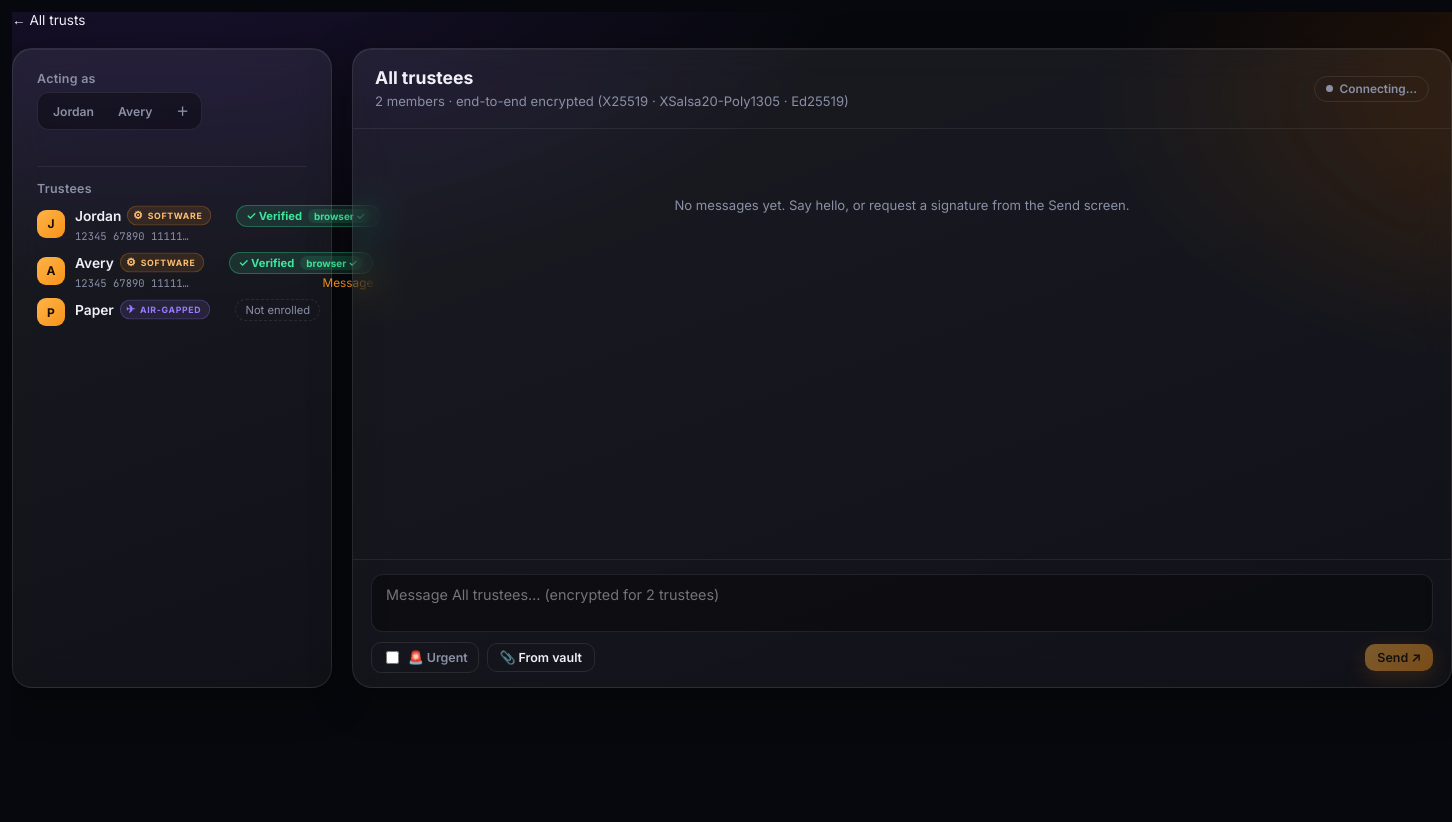
Test: Messages page › compose encrypts for every member; the server only receives ciphertext
Step 1. Type "Key ceremony is tomorrow" into the 2nd text box with test id "compose" → {"x": 902, "y": 603}, box [371,574,1433,632]
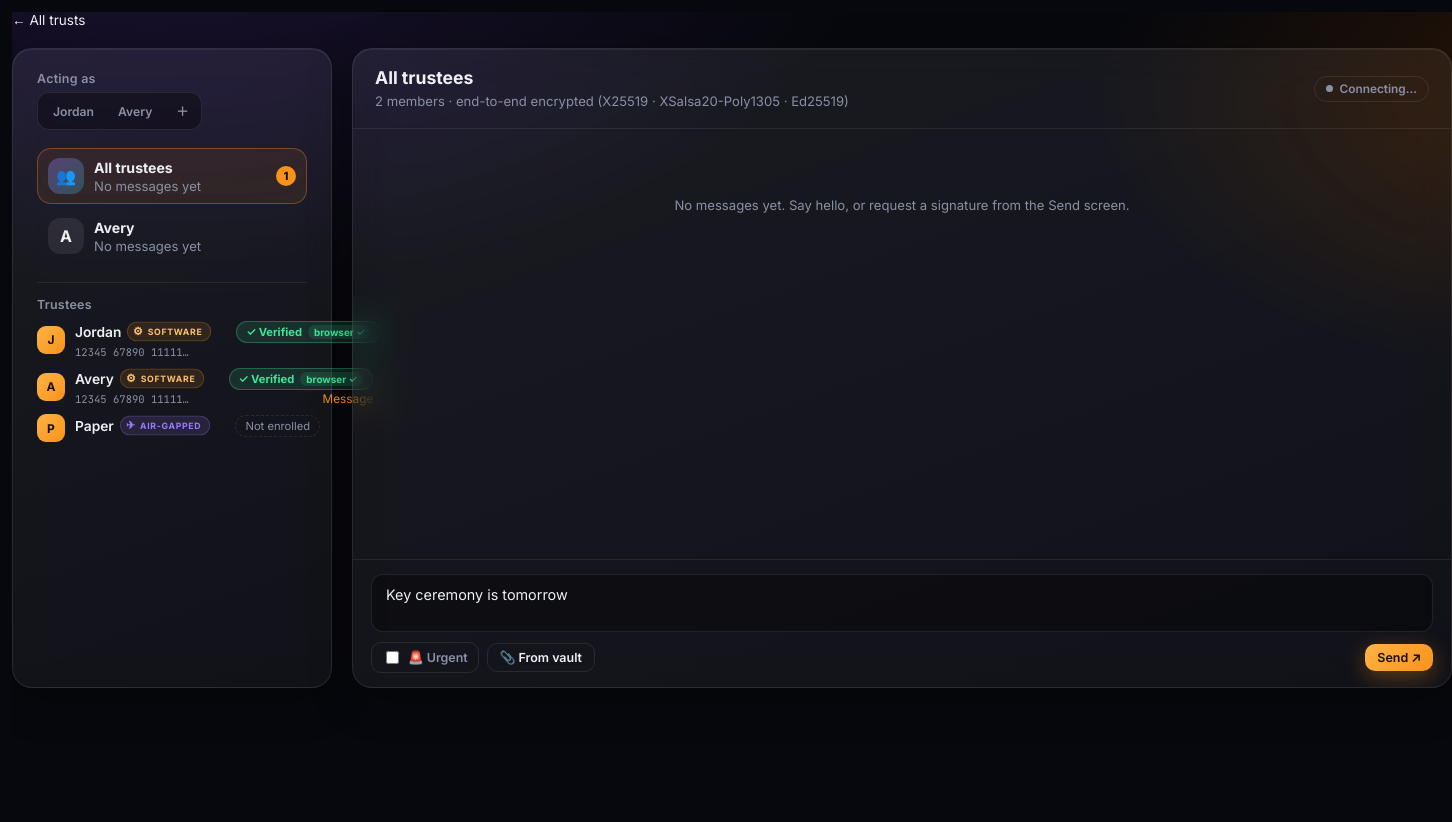
Step 2. Click the checkbox with test id "urgent-toggle" showing "🚨 Urgent" → {"x": 392, "y": 658}, box [386,651,399,664]
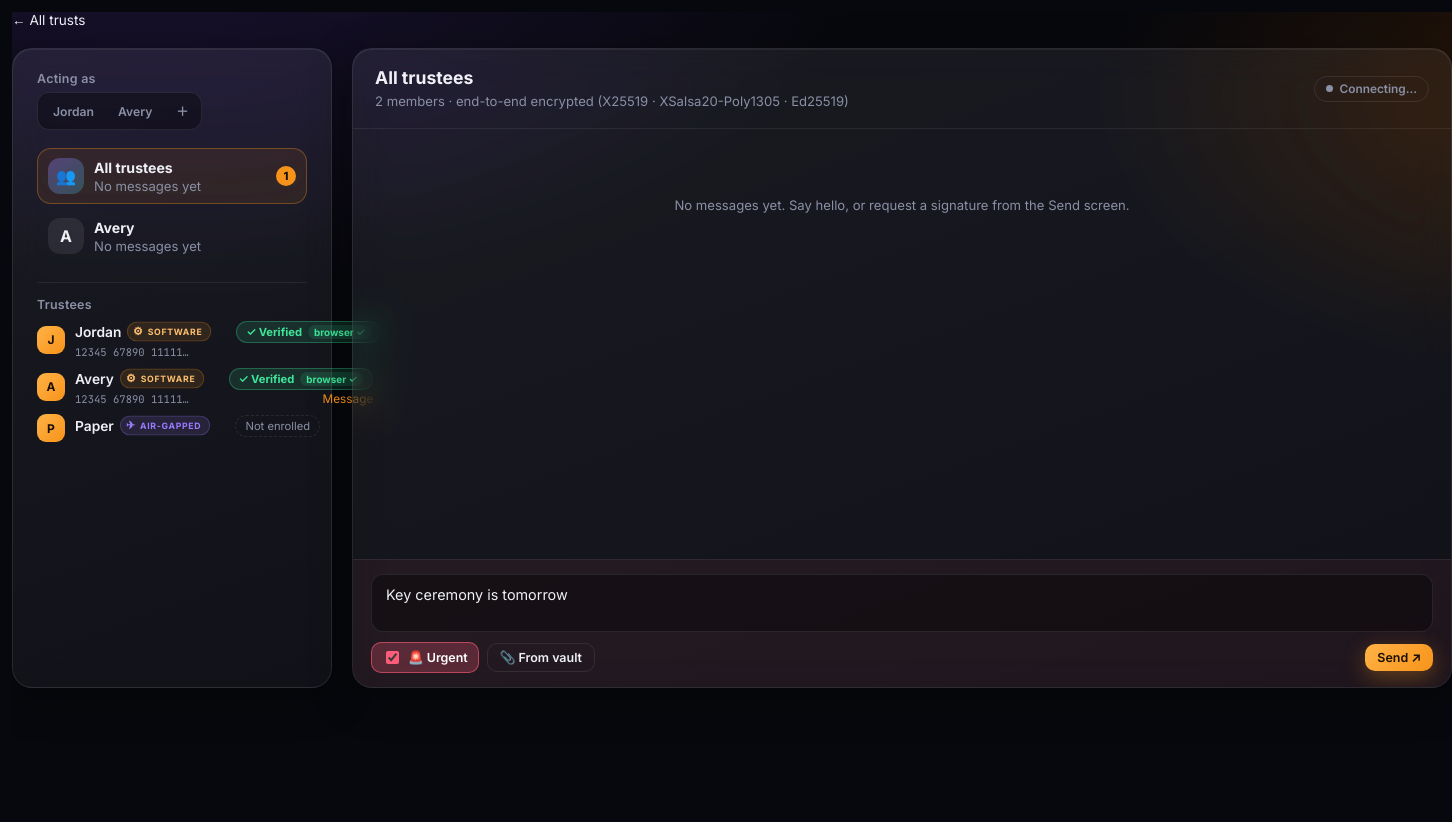
Step 3. Click the button with test id "send" → {"x": 1399, "y": 658}, box [1365,644,1433,671]
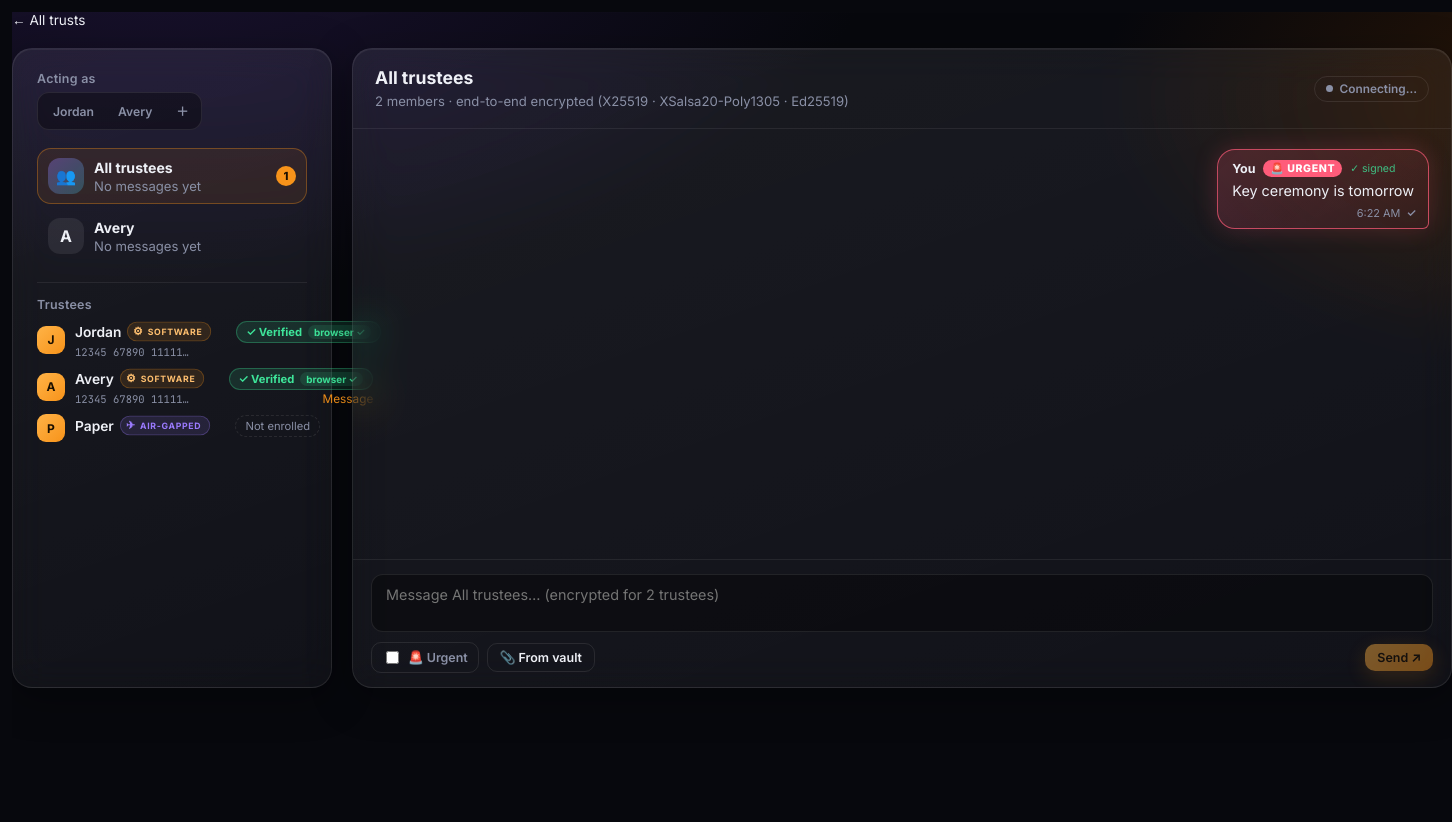
Expected: the text "Key ceremony is tomorrow" is shown, [1232,181,1414,202]
